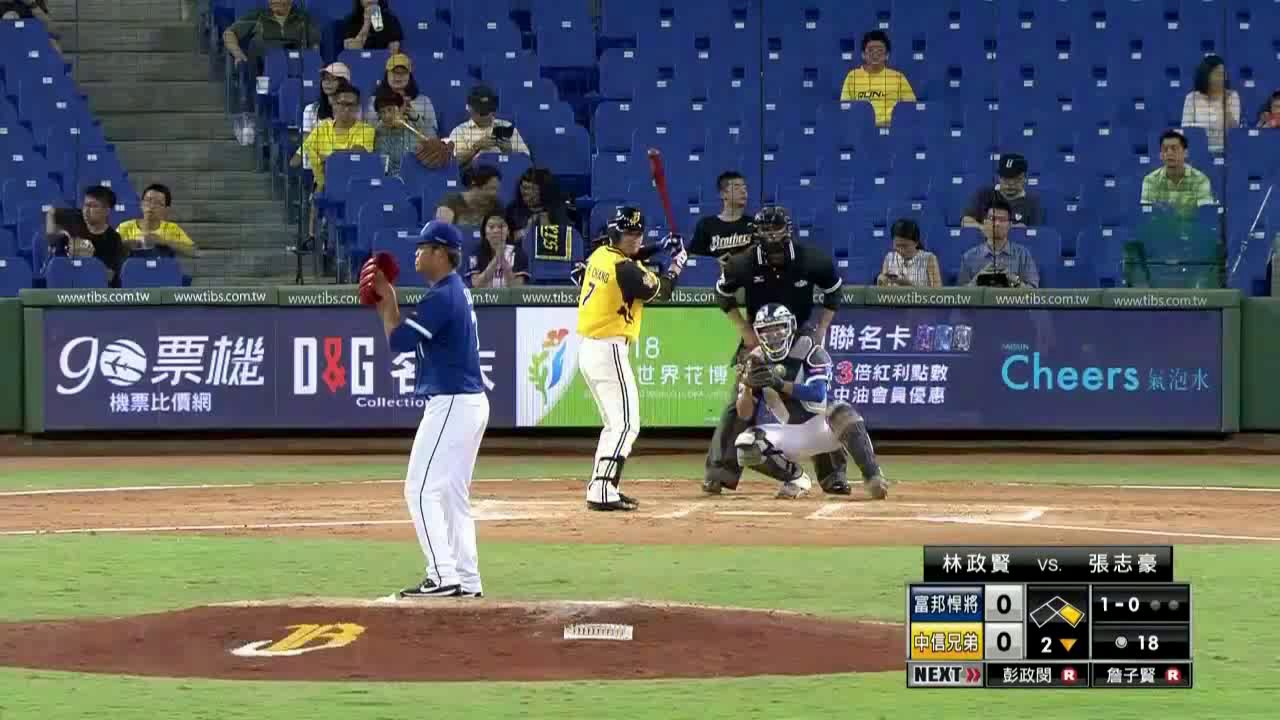base: (1029, 593, 1089, 629)
bat: (642, 145, 684, 247)
out: (1146, 590, 1184, 617)
score1: (988, 588, 1023, 620)
score2: (986, 623, 1022, 653)
session: (1028, 630, 1087, 659)
strikeball: (1093, 589, 1142, 618)
total: (1095, 631, 1184, 655)
